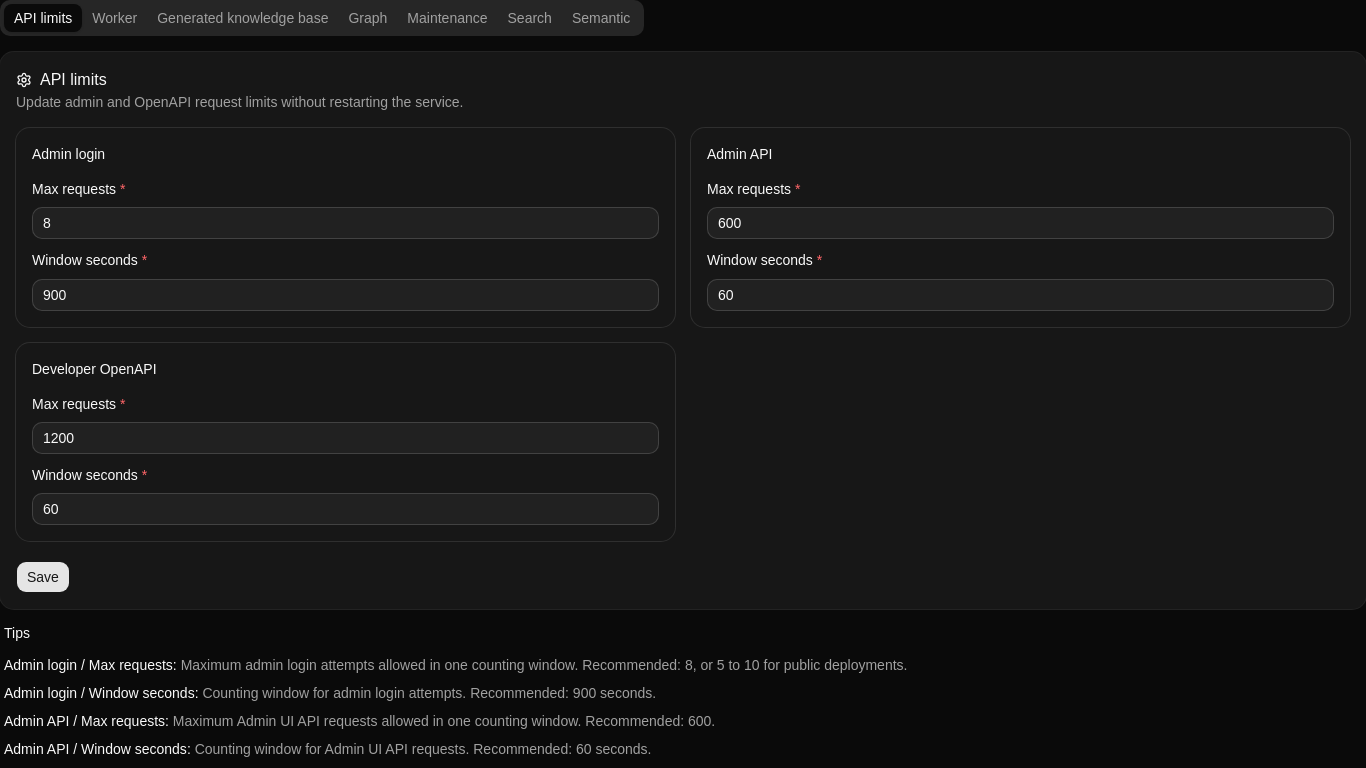
Test: SettingsPanel › keeps empty required number fields empty and blocks settings save
The image size is (1366, 768).
Expected: the tab "API limits" is shown, [4,4,82,32]
Clear the number field with id "adminLogin-max" at (346, 223), box [32,207,659,239]
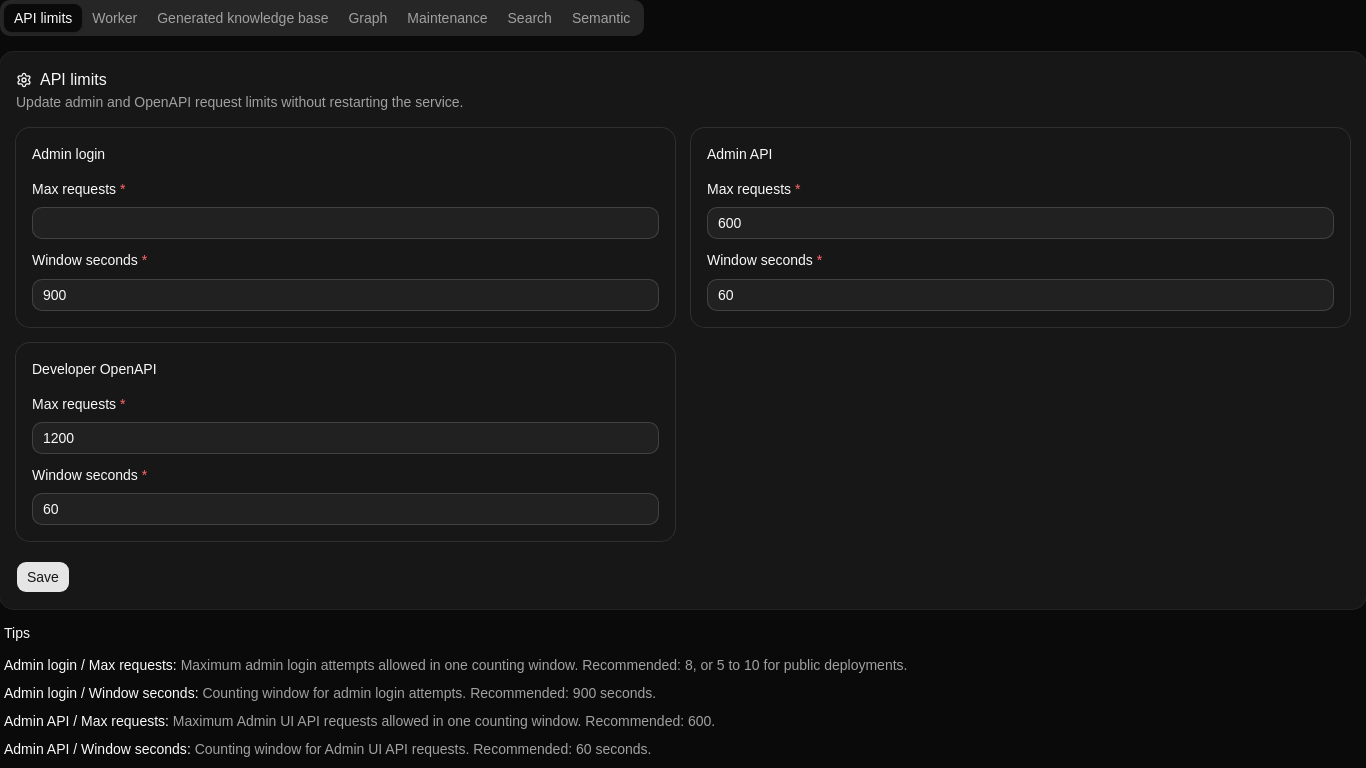
Click the button "Save" at (43, 577), box [16,561,70,593]
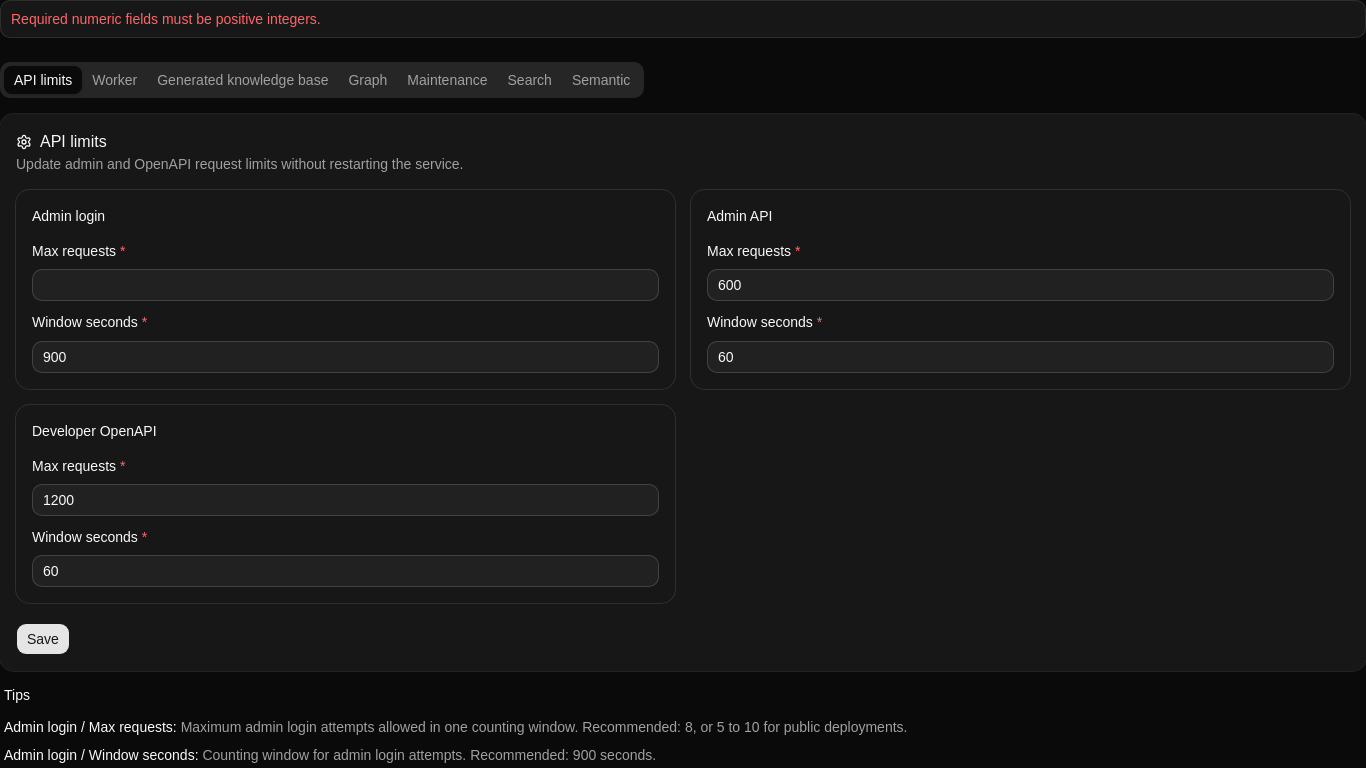
Expected: the text "Required numeric fields must be positive integers." is shown, [11,11,321,27]
